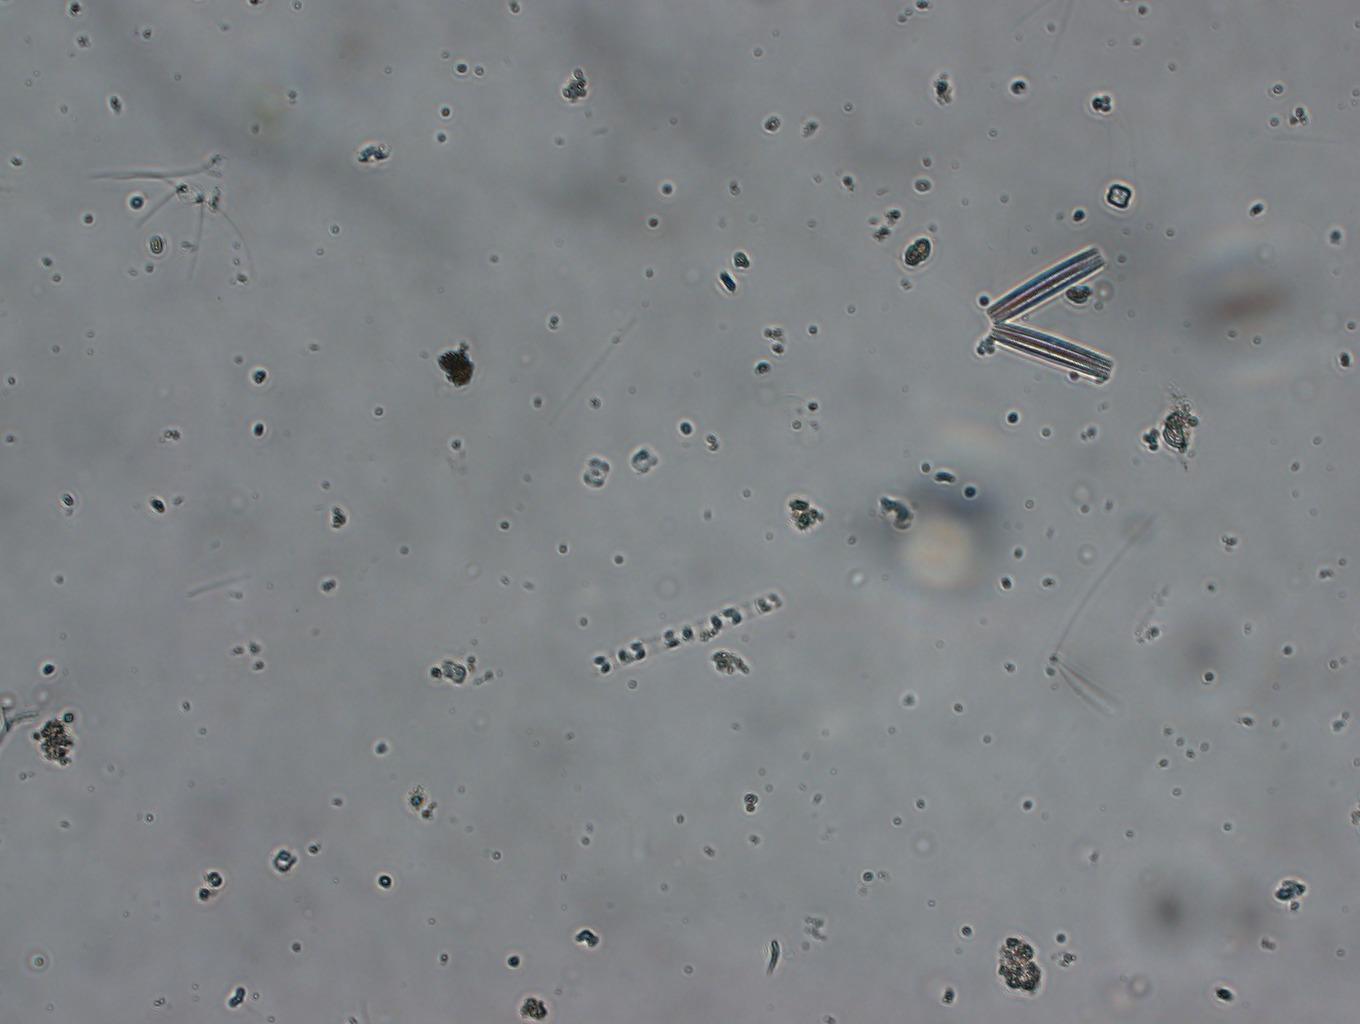skeletonema: (574, 573, 813, 688)
thalassionema nitzschioides: (971, 236, 1131, 394)
